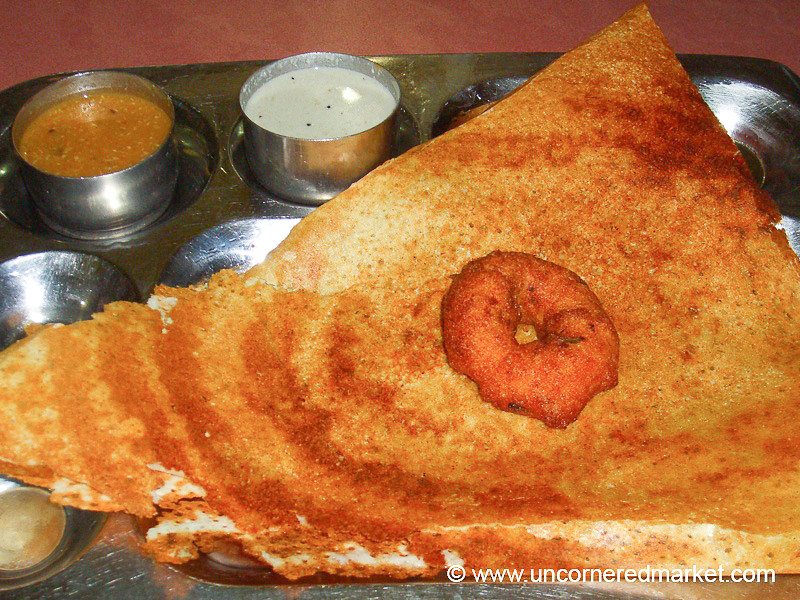dosa: (4, 4, 800, 576)
